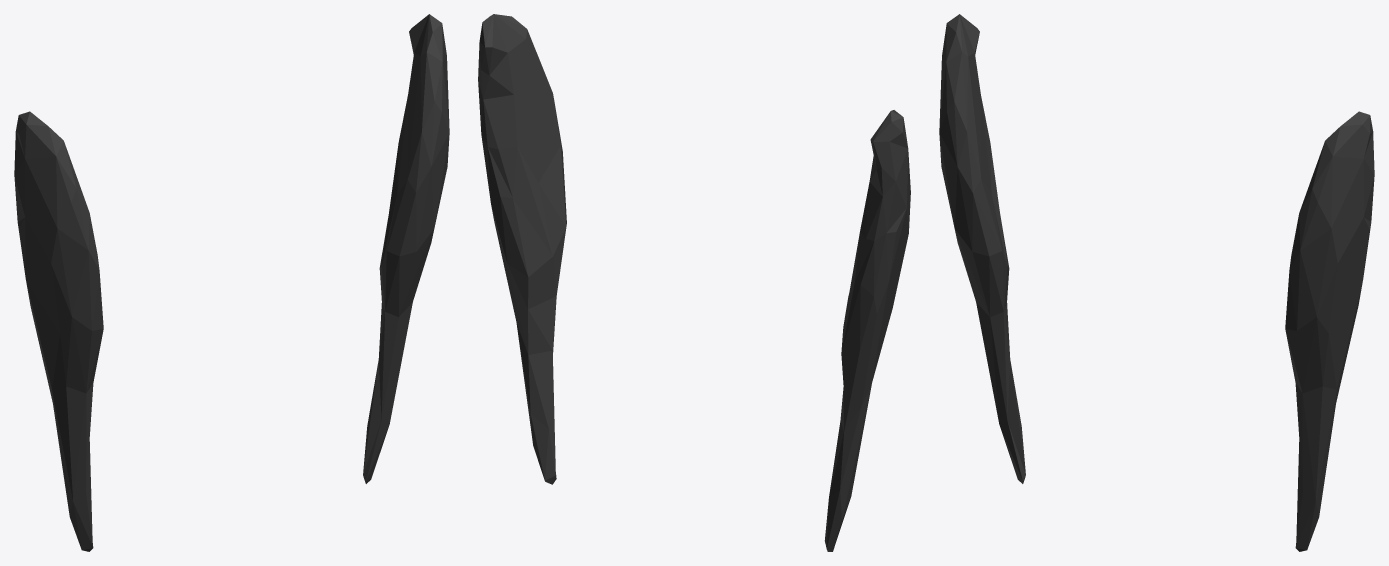
Rendered from m_extensor_digitorum_communis.glb.
3 views of the same model, side by side, from view 1: azimuth 30°, elevation 25°; view 2: azimuth 150°, elevation 25°; view 3: azimuth 330°, elevation 25° (orthographic).
Visible parts, largest first — view 1: m_extensor_digitorum_communis; view 2: m_extensor_digitorum_communis; view 3: m_extensor_digitorum_communis.
Boxes of the visible parts, x1,y1,x2,y2 form: m_extensor_digitorum_communis: (14,14,449,551); m_extensor_digitorum_communis: (478,14,910,551); m_extensor_digitorum_communis: (939,14,1374,551).
Bounding box in the file's own units: 0.00647 × 0.00669 × 0.00115.
1 material, 1 textured.
